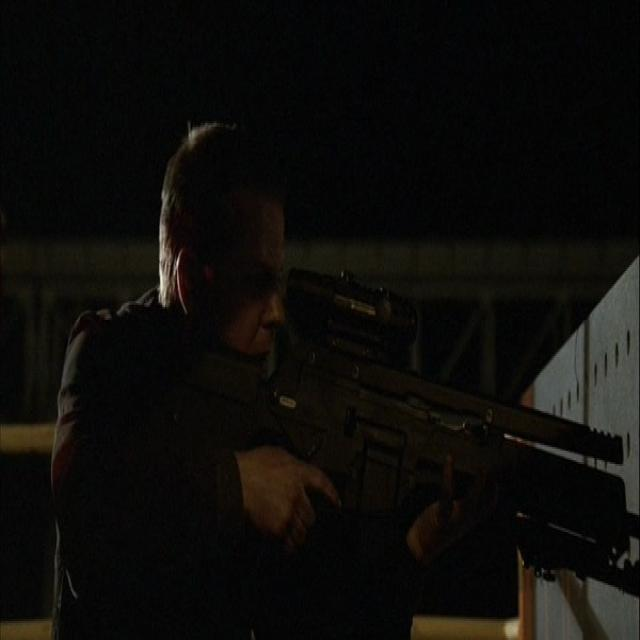rifle: (178, 266, 640, 598)
